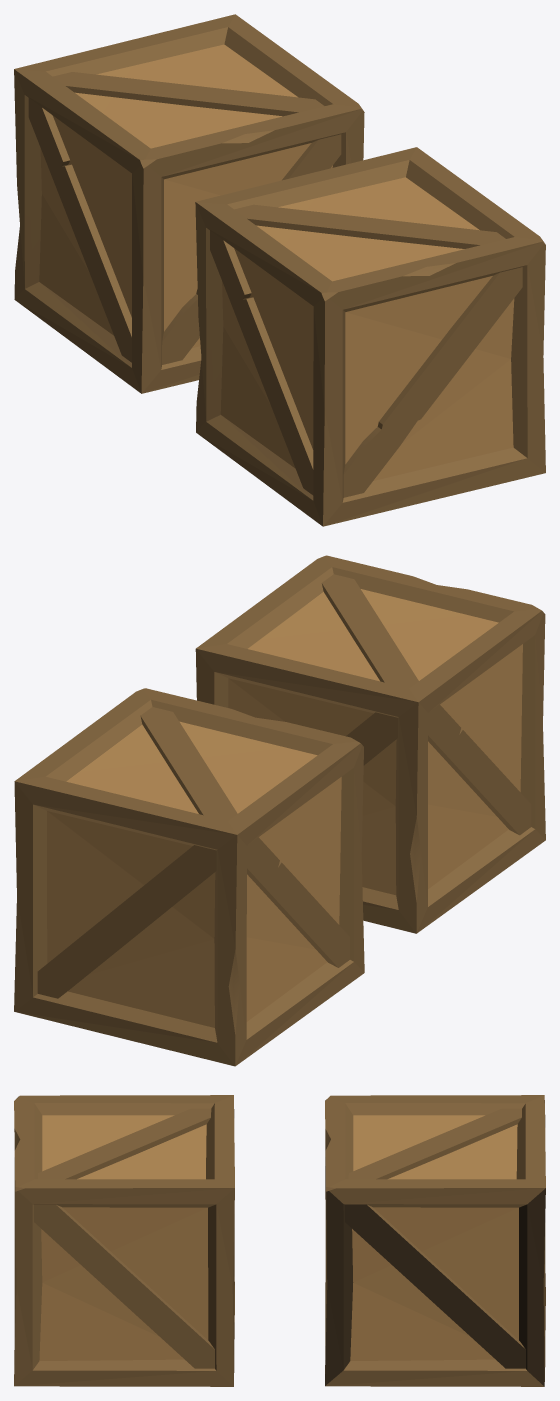
The model's file is F_BoxesN_01.fbx.
The picture shows the model from 3 angles, top to bottom: view 1: azimuth 30°, elevation 25°; view 2: azimuth 150°, elevation 25°; view 3: azimuth 270°, elevation 25°; orthographic projection. The views are drawn at different scales.
Visible parts, largest first — view 1: Box_01, Box_02; view 2: Box_02, Box_01; view 3: Box_01, Box_02.
Part boxes in pixels (x1,y1,x2,y2): Box_01: (195,147,545,526); Box_02: (14,14,364,393); Box_02: (14,688,364,1066); Box_01: (195,555,545,933); Box_01: (14,1095,234,1386); Box_02: (325,1095,545,1386).
Bounding box in the file's own units: 74.36 × 74.01 × 179.
